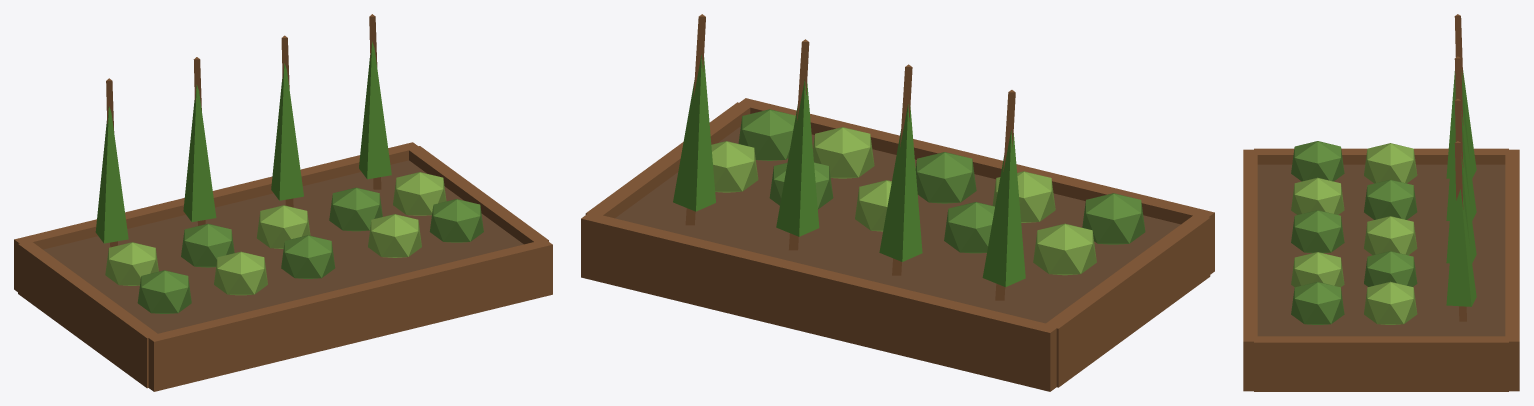
File: Dorf_Beet.fbx
The picture shows the model from 3 angles, left to right: view 1: azimuth 30°, elevation 25°; view 2: azimuth 150°, elevation 25°; view 3: azimuth 270°, elevation 25°; orthographic projection. The views are drawn at different scales.
Parts seen in each view (by area): view 1: Dorf_Beet; view 2: Dorf_Beet; view 3: Dorf_Beet.
Boxes of the visible parts, bbox=[...] form: Dorf_Beet: bbox=[14, 14, 552, 391]; Dorf_Beet: bbox=[581, 14, 1214, 391]; Dorf_Beet: bbox=[1243, 14, 1519, 391].
Bounding box in the file's own units: 2.52 × 1.3 × 1.52.
